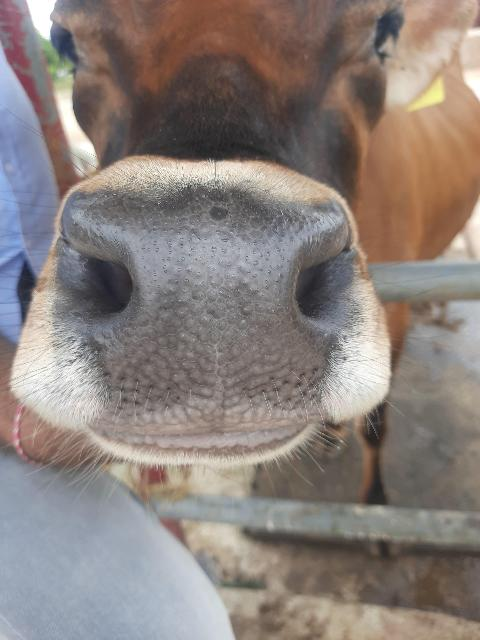Muzzle: (57, 190, 358, 432)
